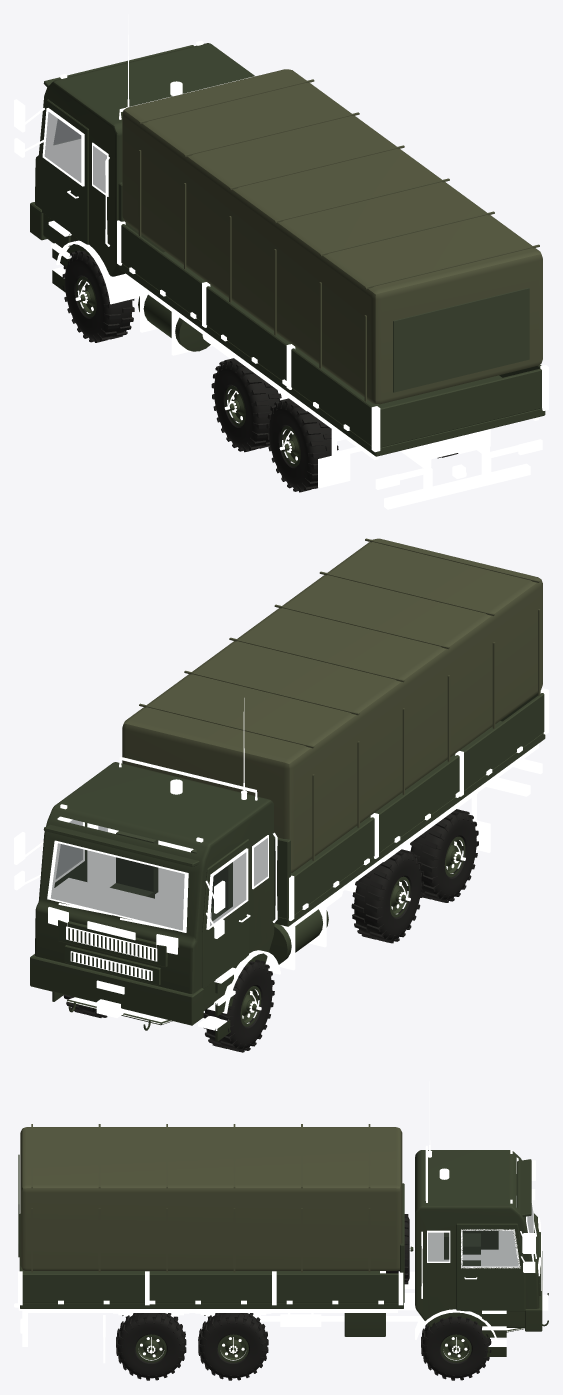
The model's file is scania_military.glb.
The picture shows the model from 3 angles, top to bottom: view 1: azimuth 30°, elevation 25°; view 2: azimuth 150°, elevation 25°; view 3: azimuth 270°, elevation 25°; orthographic projection. The views are drawn at different scales.
Parts seen in each view (by area): view 1: CargoBody_LOD0, Body_LOD0, Door_L_LOD0, Wheel_L2_LOD0, Wheel_L3_LOD0, Wheel_L1_LOD0; view 2: CargoBody_LOD0, Body_LOD0, Door_L_LOD0, Wheel_L2_LOD0, Wheel_L3_LOD0, Wheel_L1_LOD0, Door_R_LOD0; view 3: CargoBody_LOD0, Body_LOD0, Door_R_LOD0, Wheel_R2_LOD0, Wheel_R3_LOD0, Wheel_R1_LOD0, SpareWheel_LOD0, Door_L_LOD0.
Boxes of the visible parts, x1,y1,x2,y2 form: CargoBody_LOD0: (117,69,548,459); Body_LOD0: (14,14,542,509); Door_L_LOD0: (42,99,88,244); Wheel_L2_LOD0: (211,358,281,452); Wheel_L3_LOD0: (266,398,338,492); Wheel_L1_LOD0: (62,250,134,342); CargoBody_LOD0: (122,538,548,930); Body_LOD0: (14,698,542,1041); Door_L_LOD0: (202,839,250,988); Wheel_L2_LOD0: (351,849,423,943); Wheel_L3_LOD0: (410,809,478,902); Wheel_L1_LOD0: (203,959,274,1052); Door_R_LOD0: (54,820,87,887); CargoBody_LOD0: (18,1124,404,1312); Body_LOD0: (14,1081,548,1363); Door_R_LOD0: (456,1223,525,1311); Wheel_R2_LOD0: (198,1313,268,1380); Wheel_R3_LOD0: (116,1313,186,1380); Wheel_R1_LOD0: (421,1316,491,1380); SpareWheel_LOD0: (386,1214,414,1284); Door_L_LOD0: (462,1174,516,1249).
Size of what is drawn, in the model's own units: 2.99 by 4.67 by 9.12.
